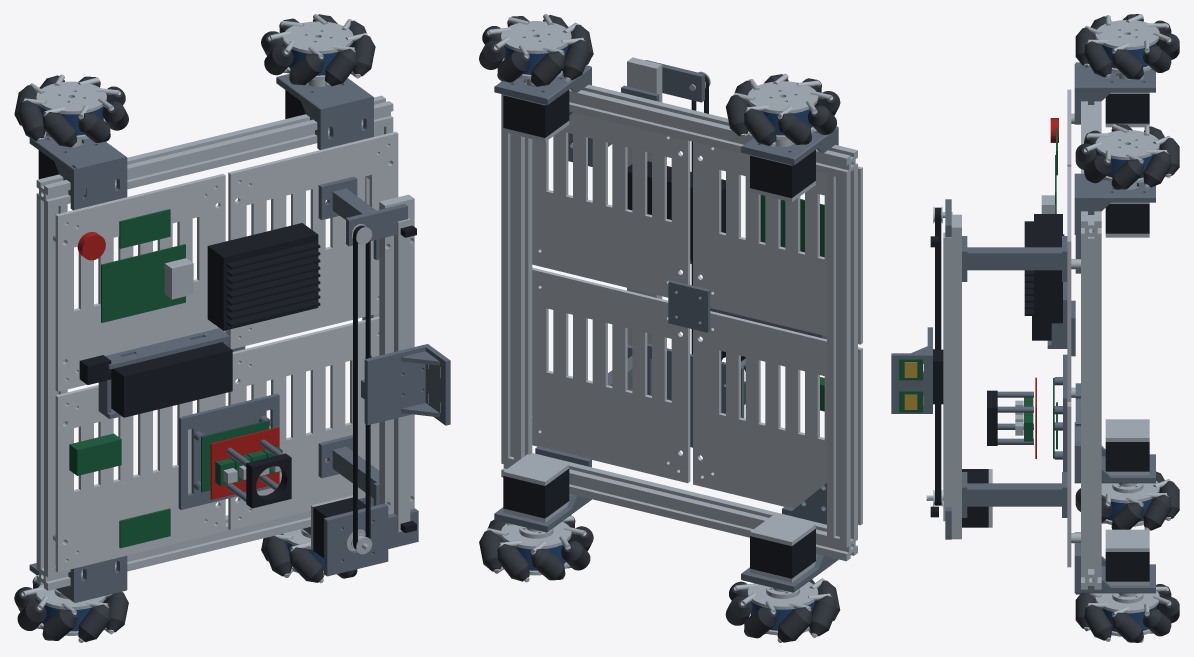
The model's file is rover_cad.glb.
3 renders of one model, left to right at view 1: azimuth 30°, elevation 25°; view 2: azimuth 150°, elevation 25°; view 3: azimuth 270°, elevation 25°, orthographic. The views are drawn at different scales.
Visible parts, largest first — view 1: o1.21, o1.22, o1.24, o1.23, o1.3, o1.2, o1.35, o1.74, o1.71, o1.49, o1.36, o1.47 (+45 smaller); view 2: o1.23, o1.24, o1.21, o1.22, o1.2, o1.4, o1.1, o1.3, o1.13.1, o1.5.1, o1.17.1, o1.9.1 (+34 smaller); view 3: o1.4, o1.71, o1.69, o1.70, o1.49, o1.72, o1.10, o1.18, o1.74, o1.86, o1.12.3, o1.20.3 (+33 smaller).
Part boxes in pixels (x1=…): o1.21: x1=55, y1=385, x2=225, y2=572; o1.22: x1=55, y1=174, x2=225, y2=391; o1.24: x1=228, y1=131, x2=398, y2=349; o1.23: x1=228, y1=316, x2=379, y2=530; o1.3: x1=36, y1=95, x2=393, y2=208; o1.2: x1=36, y1=201, x2=67, y2=570; o1.35: x1=111, y1=342, x2=232, y2=417; o1.74: x1=361, y1=344, x2=450, y2=425; o1.71: x1=379, y1=194, x2=414, y2=514; o1.49: x1=207, y1=223, x2=318, y2=330; o1.36: x1=178, y1=393, x2=279, y2=509; o1.47: x1=101, y1=244, x2=185, y2=322; o1.23: x1=532, y1=267, x2=690, y2=483; o1.24: x1=532, y1=112, x2=690, y2=297; o1.21: x1=693, y1=311, x2=862, y2=525; o1.22: x1=693, y1=142, x2=862, y2=344; o1.2: x1=827, y1=171, x2=857, y2=540; o1.4: x1=501, y1=95, x2=532, y2=460; o1.1: x1=501, y1=453, x2=857, y2=561; o1.3: x1=501, y1=81, x2=857, y2=179; o1.13.1: x1=503, y1=469, x2=569, y2=518; o1.5.1: x1=750, y1=529, x2=815, y2=578; o1.17.1: x1=503, y1=90, x2=569, y2=137; o1.9.1: x1=750, y1=150, x2=815, y2=198; o1.4: x1=1081, y1=236, x2=1101, y2=570; o1.71: x1=951, y1=214, x2=961, y2=539; o1.69: x1=962, y1=472, x2=1067, y2=517; o1.70: x1=962, y1=236, x2=1067, y2=281; o1.49: x1=1034, y1=214, x2=1062, y2=323; o1.72: x1=943, y1=232, x2=951, y2=521; o1.10: x1=1074, y1=63, x2=1155, y2=124; o1.18: x1=1074, y1=173, x2=1155, y2=234; o1.74: x1=891, y1=327, x2=934, y2=413; o1.86: x1=935, y1=218, x2=941, y2=501; o1.12.3: x1=1095, y1=20, x2=1159, y2=49; o1.20.3: x1=1095, y1=130, x2=1159, y2=159.
Bounding box in the file's own units: 0.35 × 0.5118 × 0.2769.
